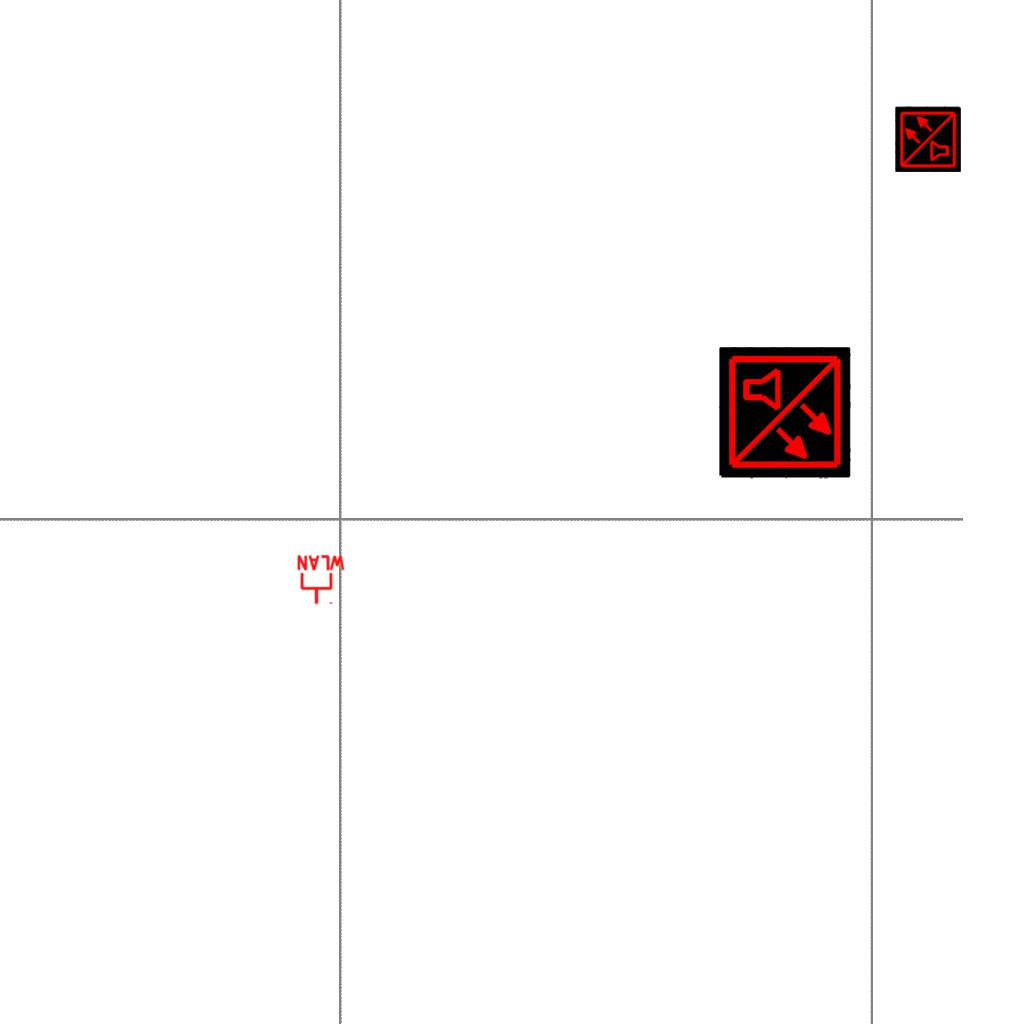OKW_Multisensormelder_(Kombination_optischer_Rauch-Kahlenmonoxid_Waerme-Melder): (719, 347, 851, 479), (895, 106, 961, 172)
WLAN: (295, 554, 347, 606)
